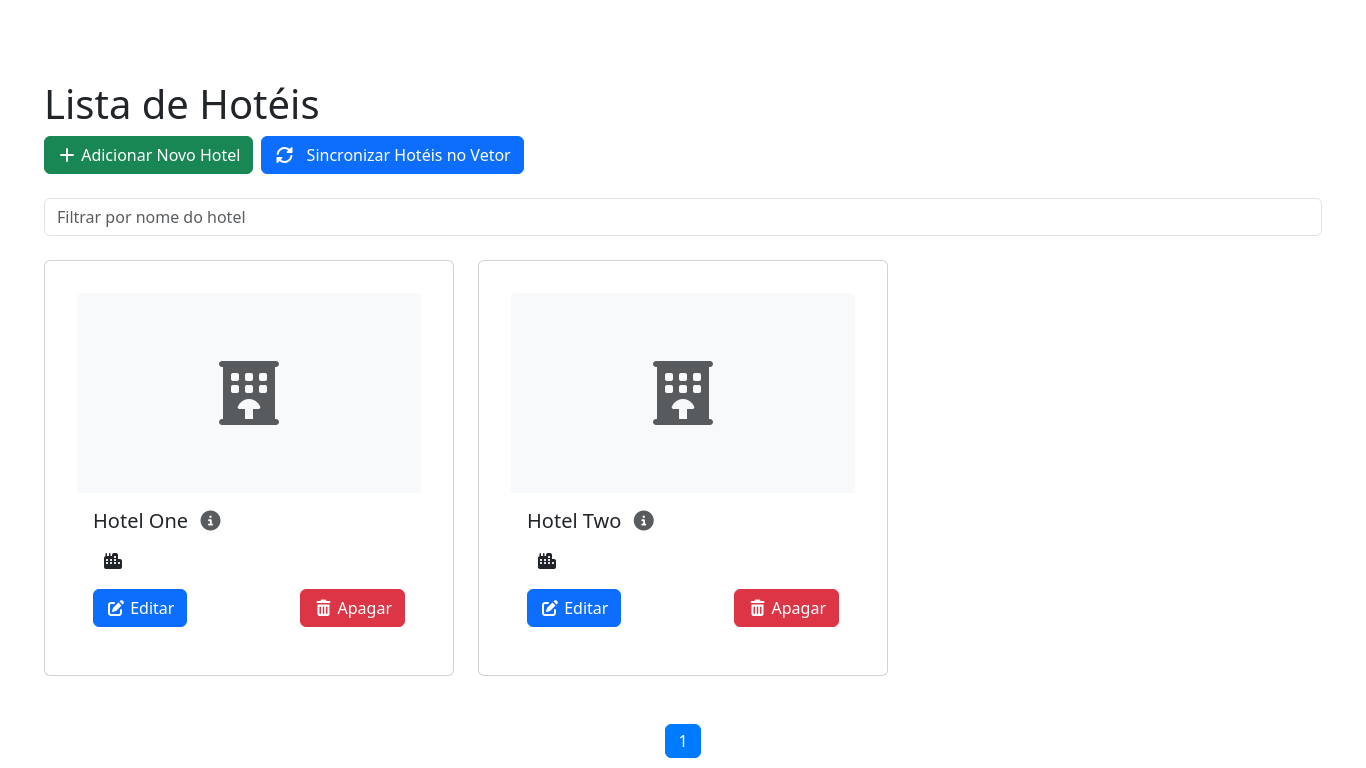
Test: HotelList component › deletes a hotel from the list
Expected: the heading "Hotel One" is shown, x1=93 y1=507 x2=223 y2=534
Expected: the heading "Hotel Two" is shown, x1=527 y1=507 x2=656 y2=534
Click the button "Apagar" below "Hotel One" at (353, 608), box x1=300 y1=589 x2=405 y2=627
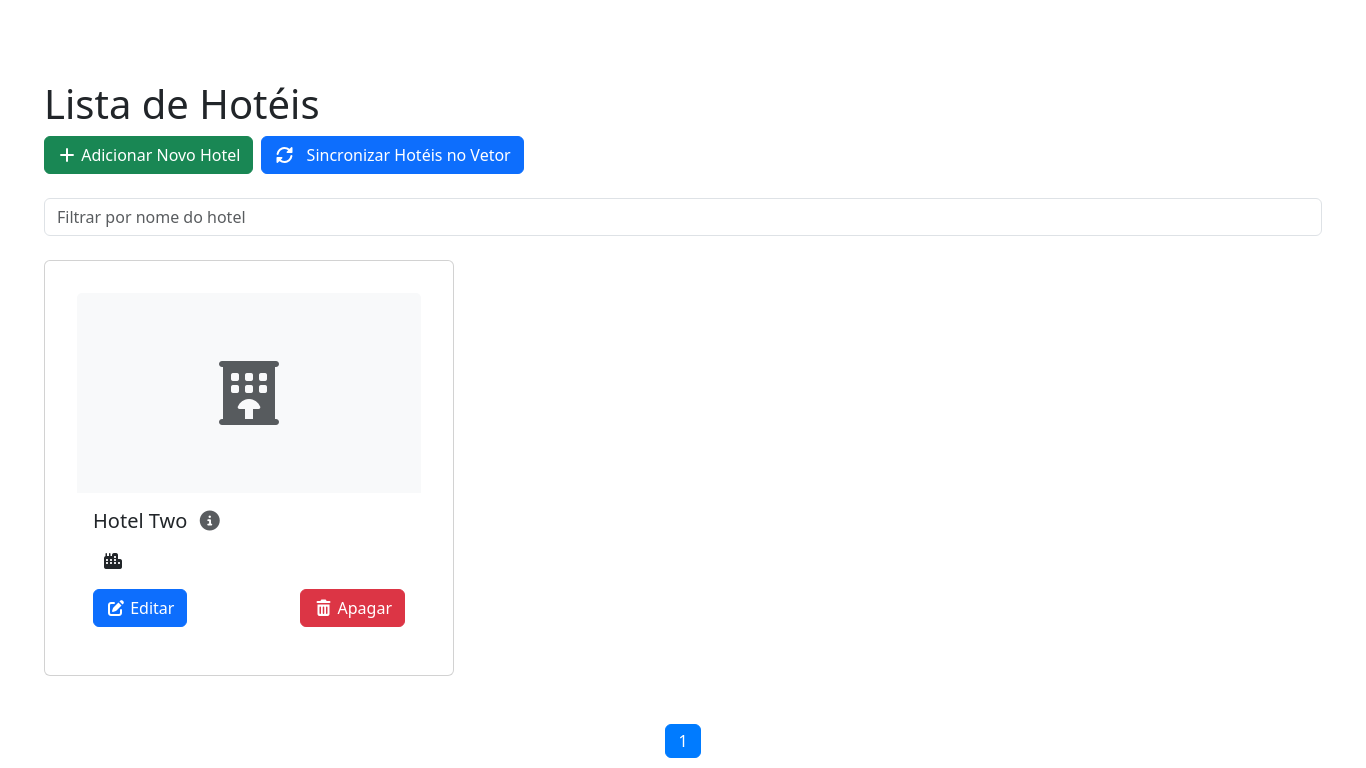
Expected: the heading "Hotel Two" is shown, x1=93 y1=507 x2=222 y2=534
Now the heading "Hotel One" is gone
